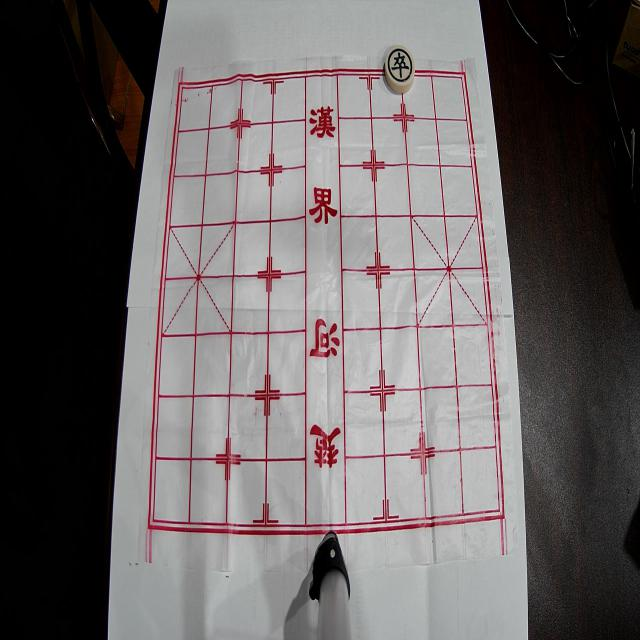black-soldier: (386, 45, 414, 93)
